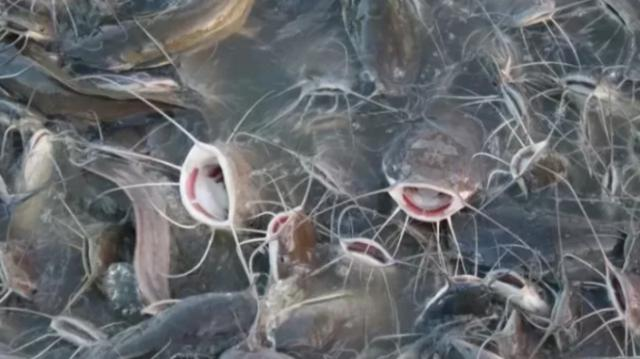Mulut: (162, 125, 250, 255), (379, 158, 469, 232), (582, 243, 640, 337), (502, 128, 562, 200), (332, 226, 402, 276), (261, 197, 309, 265), (64, 228, 108, 290), (551, 64, 609, 106), (482, 261, 536, 305), (296, 75, 360, 111), (435, 262, 491, 298), (592, 148, 626, 206), (593, 0, 639, 42), (515, 2, 565, 40), (19, 121, 63, 162)
